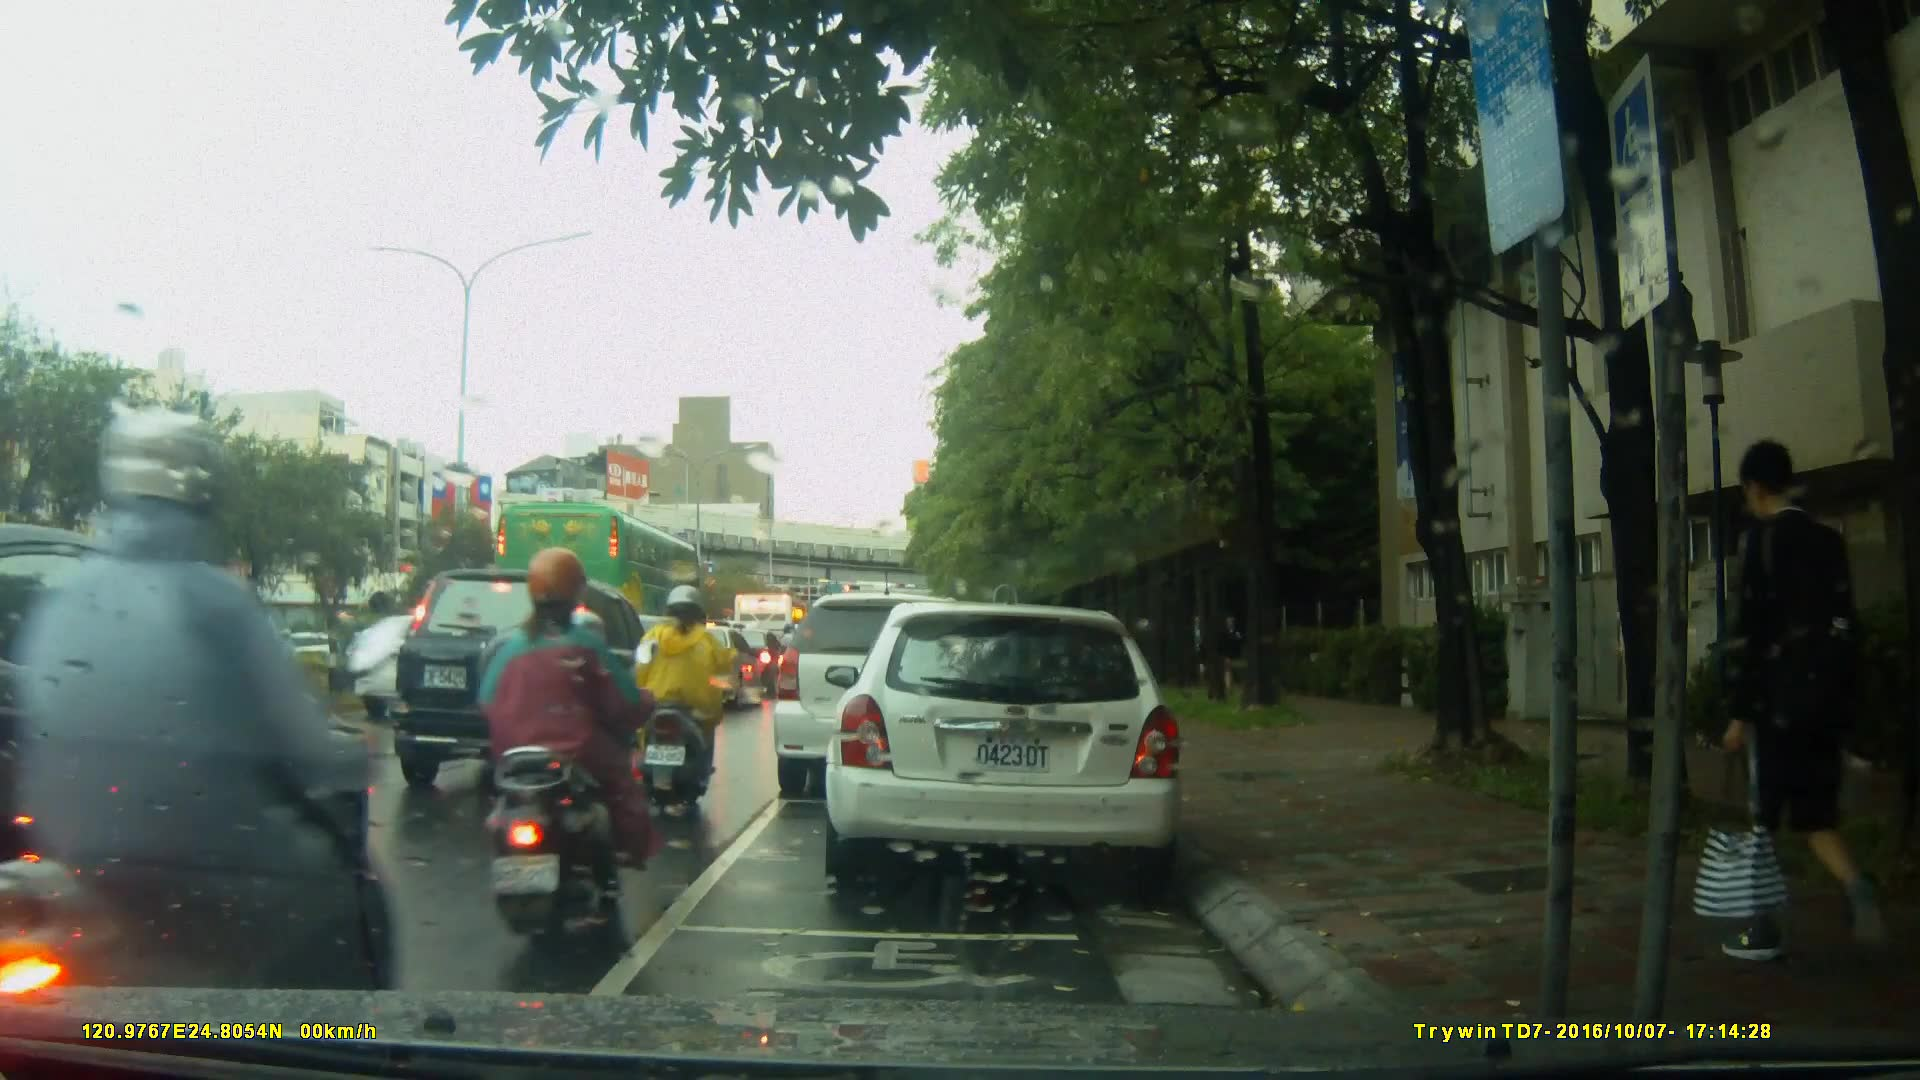pedestrian: (1685, 439, 1879, 996)
rider: (1, 404, 413, 1080), (480, 549, 650, 951), (155, 561, 267, 792), (637, 581, 738, 818)
vehicle: (4, 522, 373, 988), (831, 592, 1196, 897), (394, 565, 673, 799), (770, 592, 999, 800), (492, 498, 705, 659)
